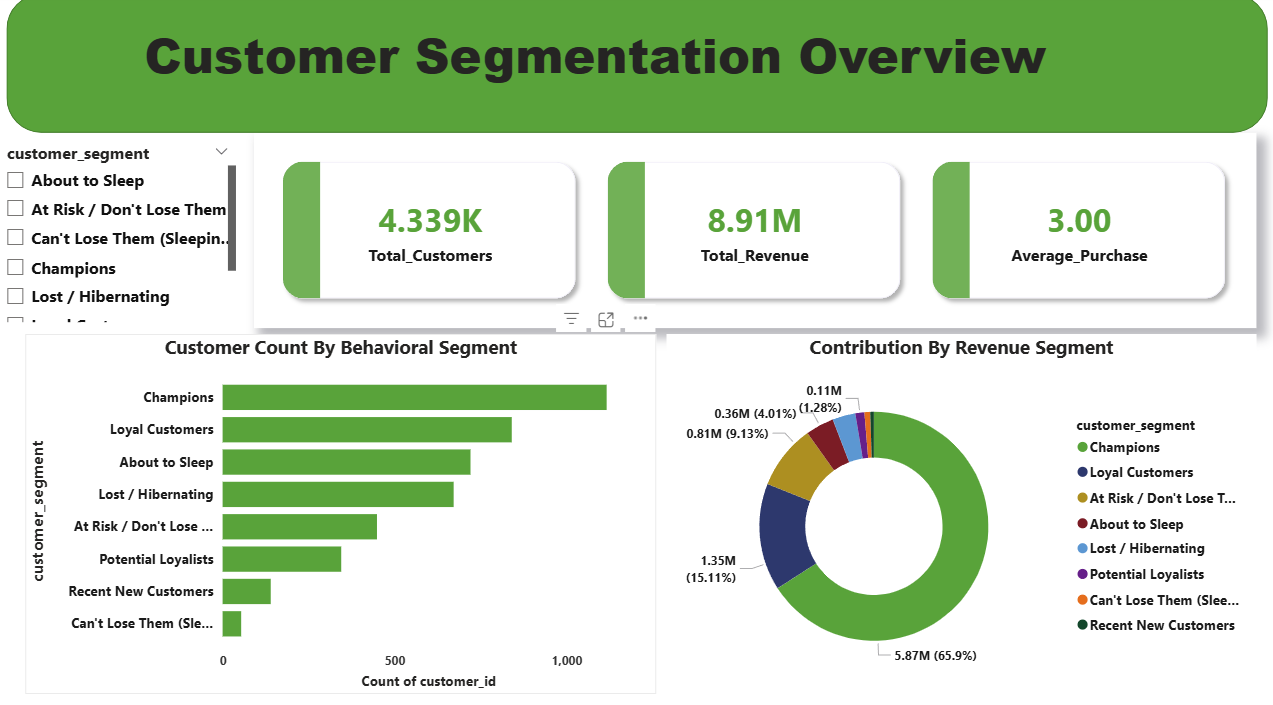

The dashboard page shown, as its layout file describes it:
{"tool":"powerbi","page":{"name":"Customer_segmentation_Overview","canvas":[1280,720],"ordinal":0},"visuals":[{"type":"cardVisual","fields":{"Data":["Count(RFM data.customer_id)","Sum(RFM data.total_spend)","Avg(RFM data.f_score)"]},"box":[258.7,138.1,997.7,194.1],"z":0},{"type":"clusteredBarChart","title":"Customer Count By Behavioral Segment","fields":{"Y":["CountNonNull(RFM data.customer_id)"],"Category":["RFM data.customer_segment"]},"box":[31.1,338.4,628.2,358.3],"z":1000},{"type":"donutChart","title":"Contribution By Revenue Segment","fields":{"Category":["RFM data.customer_segment"],"Y":["Sum(RFM data.total_spend)"]},"box":[669.3,338.4,587.1,358.3],"z":2000},{"type":"slicer","fields":{"Values":["RFM data.customer_segment"]},"box":[0,142.3,245.4,190.2],"z":3000},{"type":"shape","box":[12.4,0,1255.2,138.1],"z":4000},{"type":"textbox","box":[99.5,21.1,997.7,105.7],"z":5000}]}

Visuals, with their boxes on the page's 1280x720 design canvas (x1, y1, x2, y2). These are canvas units, not pixel positions in the 1273x705 screenshot, which may show the page scaled, cropped or inside an application window:
cardVisual - Count(RFM data.customer_id) x Sum(RFM data.total_spend): {"left": 259, "top": 138, "right": 1256, "bottom": 332}
"Customer Count By Behavioral Segment" clusteredBarChart: {"left": 31, "top": 338, "right": 659, "bottom": 697}
"Contribution By Revenue Segment" donutChart: {"left": 669, "top": 338, "right": 1256, "bottom": 697}
slicer - RFM data.customer_segment: {"left": 0, "top": 142, "right": 245, "bottom": 332}
shape: {"left": 12, "top": 0, "right": 1268, "bottom": 138}
textbox: {"left": 100, "top": 21, "right": 1097, "bottom": 127}
